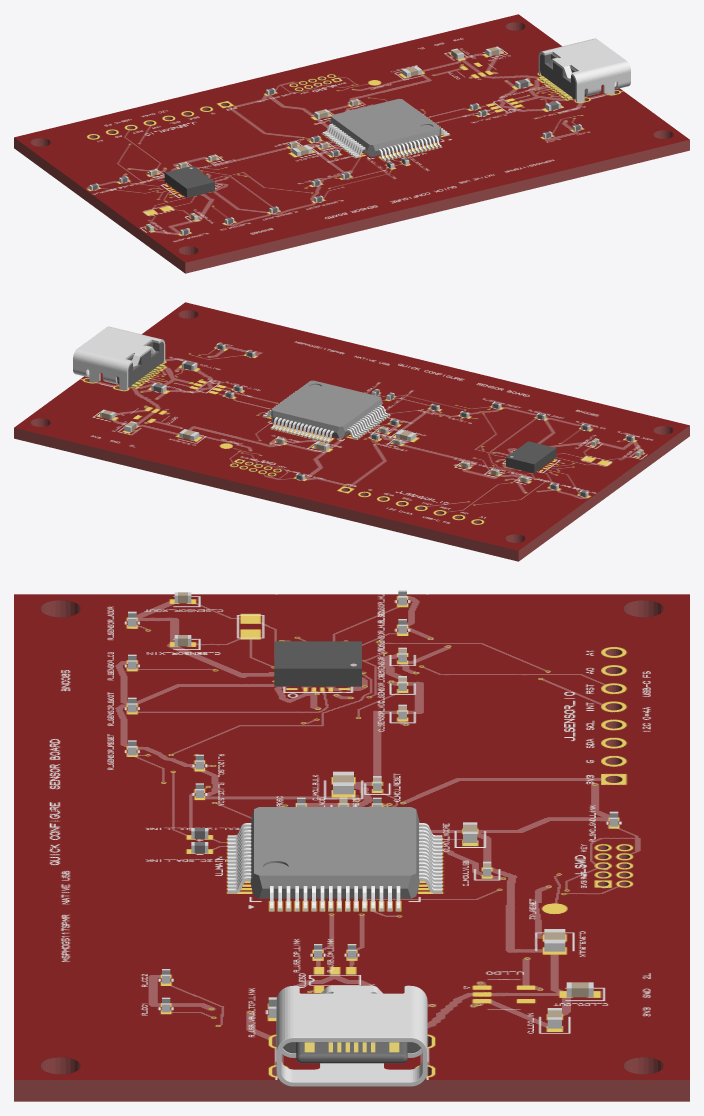
3 renders of one model, top to bottom at view 1: azimuth 30°, elevation 25°; view 2: azimuth 150°, elevation 25°; view 3: azimuth 270°, elevation 25°, orthographic. The views are drawn at different scales.
Visible parts, largest first — view 1: Box0, U_MAIN, J_USB, U_SENSOR; view 2: Box0, U_MAIN, J_USB, U_SENSOR; view 3: Box0, U_MAIN, J_USB, U_SENSOR.
Part boxes in pixels (left/top/right/bottom): Box0: left=14, top=14, right=689, bottom=273; U_MAIN: left=322, top=99, right=449, bottom=161; J_USB: left=538, top=38, right=630, bottom=102; U_SENSOR: left=164, top=165, right=214, bottom=197; Box0: left=14, top=302, right=689, bottom=561; U_MAIN: left=263, top=380, right=390, bottom=442; J_USB: left=73, top=326, right=165, bottom=390; U_SENSOR: left=506, top=441, right=556, bottom=473; Box0: left=14, top=594, right=689, bottom=1101; U_MAIN: left=227, top=807, right=442, bottom=911; J_USB: left=276, top=985, right=427, bottom=1086; U_SENSOR: left=274, top=641, right=361, bottom=686.
Bounding box in the file's own units: 69.04 × 4.65 × 40.
Materials: 15 (2 with a texture image).
